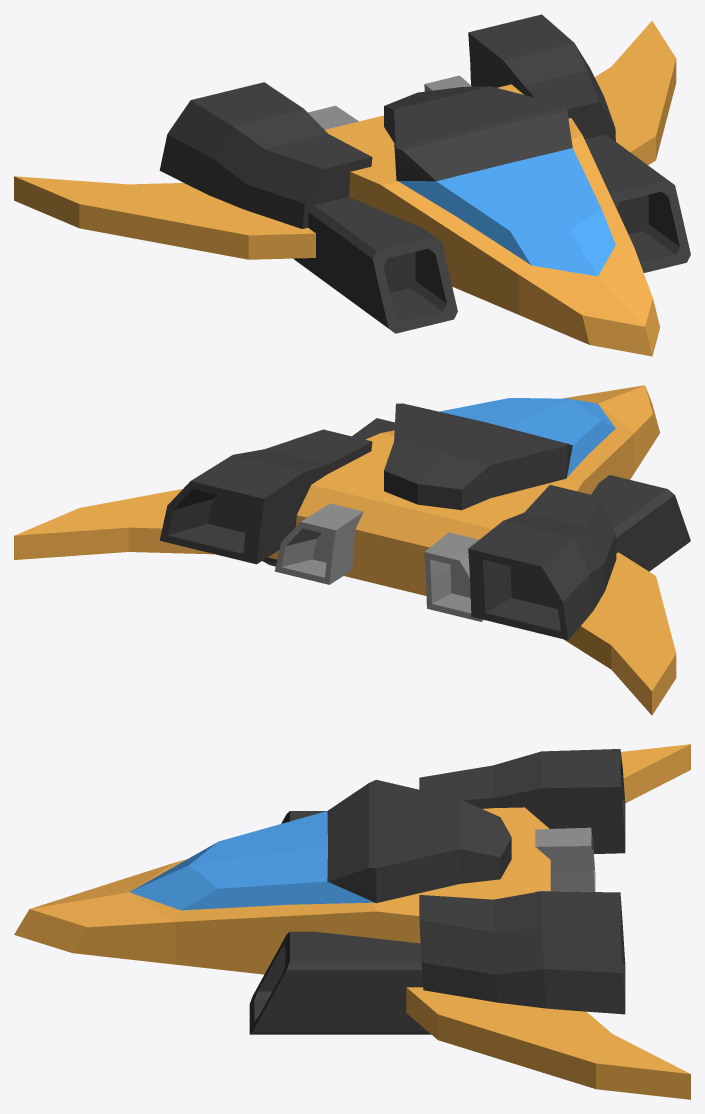
File: t2_bomber.fbx
3 renders of one model, top to bottom at view 1: azimuth 30°, elevation 25°; view 2: azimuth 150°, elevation 25°; view 3: azimuth 270°, elevation 25°, orthographic. The views are drawn at different scales.
Visible parts, largest first — view 1: Bomber|Cube_L_Rocket_Bomber.blend|Dupli|; view 2: Bomber|Cube_L_Rocket_Bomber.blend|Dupli|; view 3: Bomber|Cube_L_Rocket_Bomber.blend|Dupli|.
Boxes of the visible parts, bbox=[...] form: Bomber|Cube_L_Rocket_Bomber.blend|Dupli|: bbox=[14, 14, 690, 356]; Bomber|Cube_L_Rocket_Bomber.blend|Dupli|: bbox=[14, 385, 690, 715]; Bomber|Cube_L_Rocket_Bomber.blend|Dupli|: bbox=[14, 744, 690, 1099].
Size of the model in its own units: 875 by 167 by 759.
